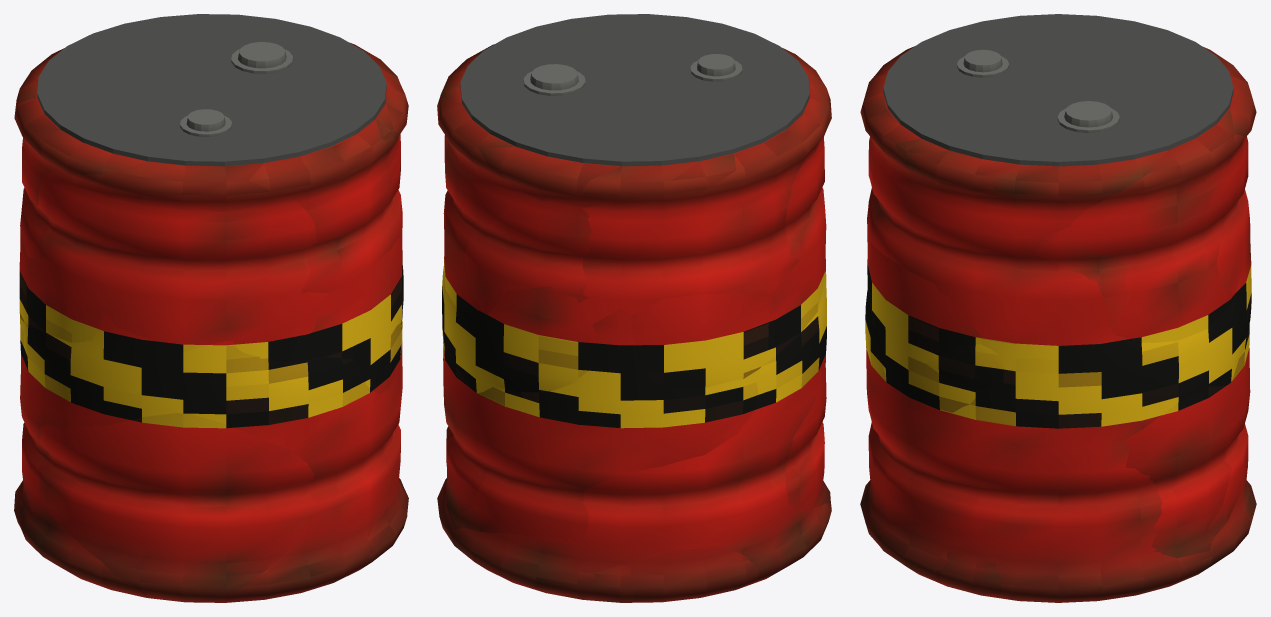
File: vat.glb
3 renders of one model, left to right at view 1: azimuth 30°, elevation 25°; view 2: azimuth 150°, elevation 25°; view 3: azimuth 270°, elevation 25°, orthographic.
Parts seen in each view (by area): view 1: Vat1, Vat2, Deksel1, Vat3; view 2: Vat2, Vat1, Deksel1, Vat3; view 3: Vat2, Vat3, Deksel1, Vat1.
Part boxes in pixels (x1,y1,x2,y2): Vat1: [20, 48, 408, 602]; Vat2: [14, 42, 402, 602]; Deksel1: [37, 14, 386, 166]; Vat3: [14, 73, 407, 580]; Vat2: [437, 44, 831, 599]; Vat1: [448, 48, 831, 602]; Deksel1: [460, 14, 809, 166]; Vat3: [437, 96, 768, 602]; Vat2: [860, 64, 1256, 602]; Vat3: [868, 109, 1247, 585]; Deksel1: [883, 14, 1233, 166]; Vat1: [867, 46, 1250, 595].
Bounding box in the file's own units: 0.7877 × 0.988 × 0.7881.
